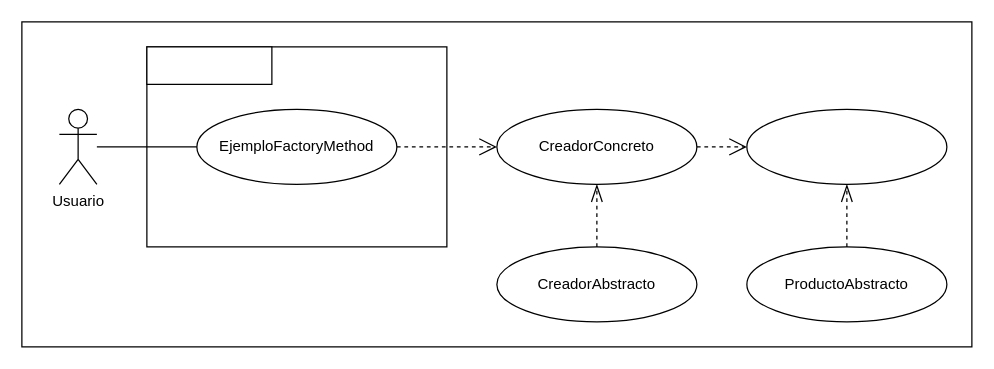
This 994x369 diagram has some shape labels left out. The shapes that lost their labels are listed below. From the top down, each one's centre as x and y in pixels, then its label:
[209,65]: Factory Method
[846,146]: ProductoConcreto
